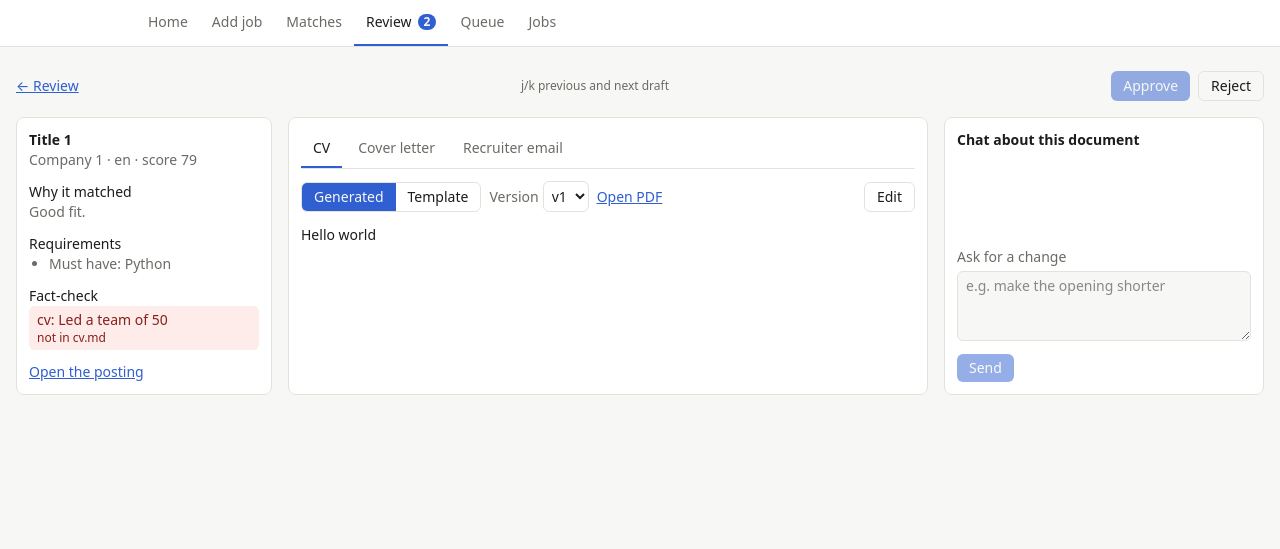
Test case: Review detail › proposes a diff, discards it, and accepts it into a new version
Check: the text "Hello world" is shown, box [301,225,376,244]
Type "livelier please" into the text box labelled "Ask for a change" at (1104,306), box [957,271,1251,341]
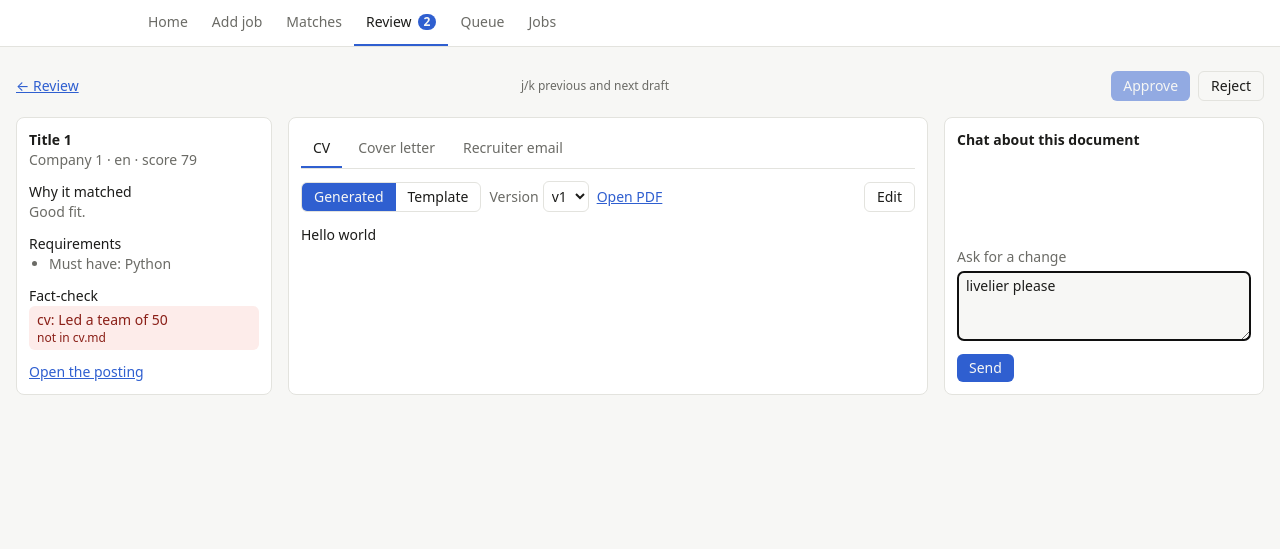
Click the button "Send" at (985,368), box [957,354,1014,382]
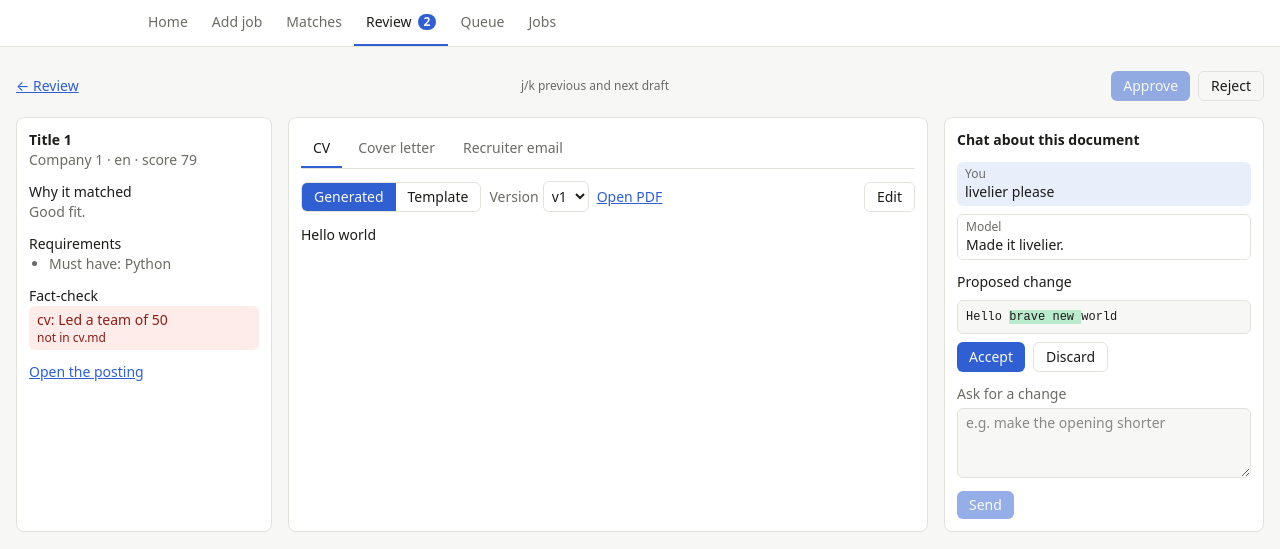
Check: the text "brave new" is shown, box [1009,310,1081,324]
Click the button "Discard" at (1071,357), box [1033,342,1108,372]
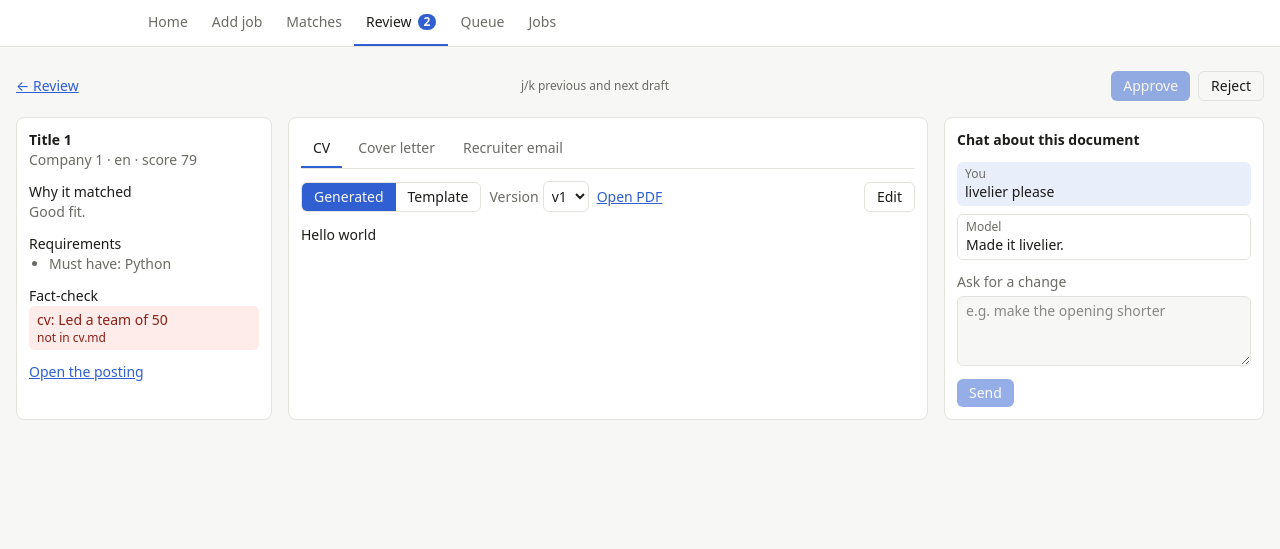
Type "again" into the text box labelled "Ask for a change" at (1104,331), box [957,296,1251,366]
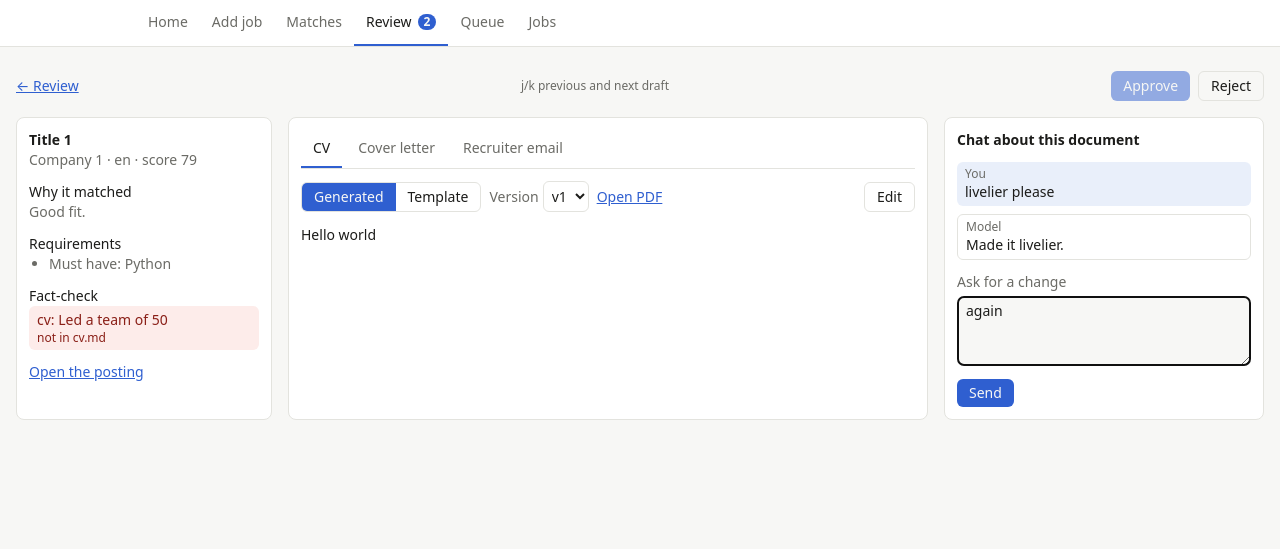
Click the button "Send" at (985,393), box [957,379,1014,407]
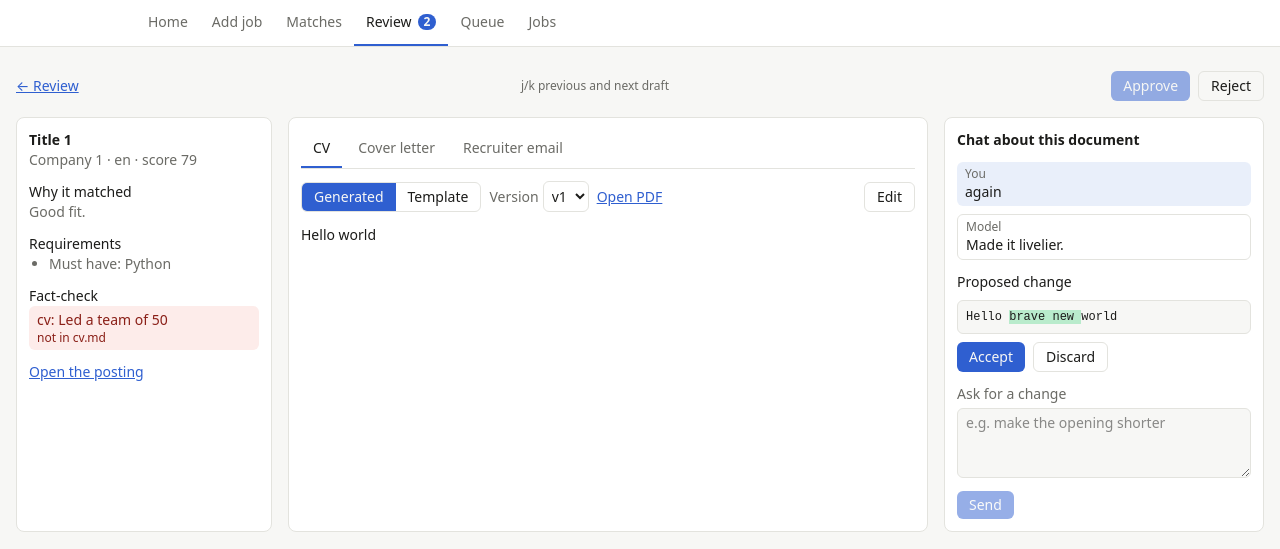
Check: the element named "Proposed changes" is shown, box [957,300,1251,334]
Click the button "Accept" at (991,357), box [957,342,1025,372]
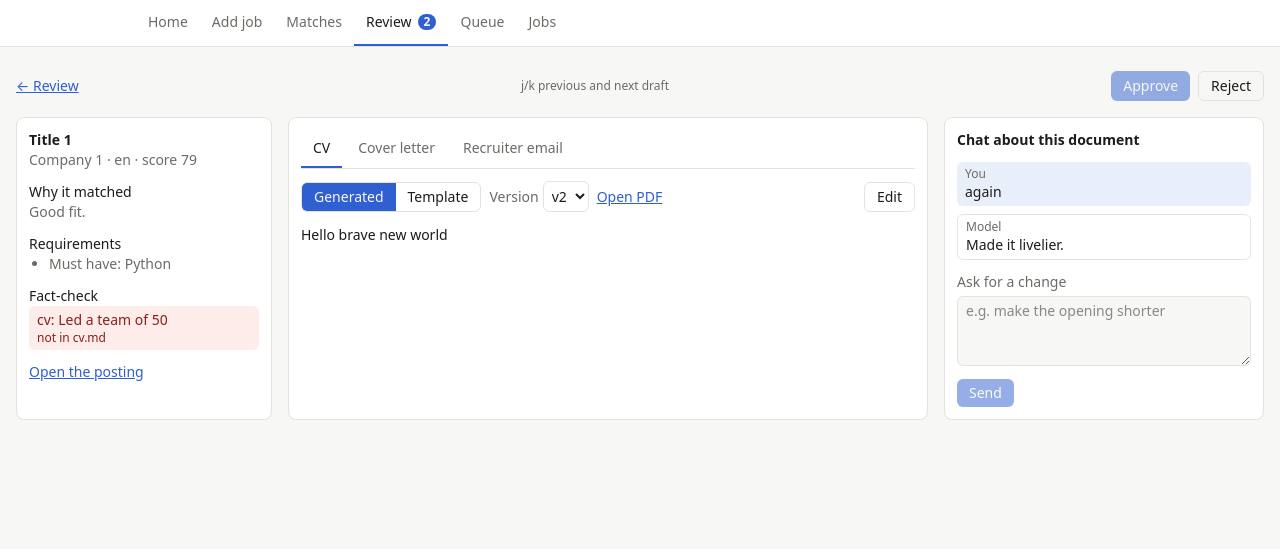
Check: the text "Hello brave new world" is shown, box [301,225,448,244]
